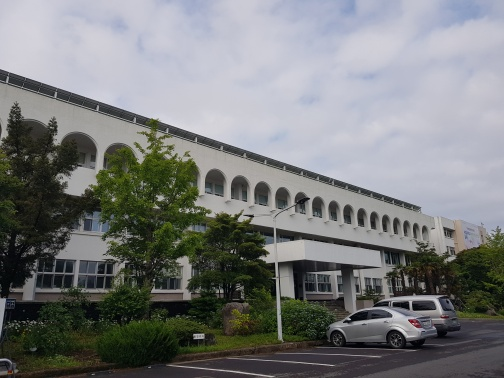Main Building of University: (7, 73, 440, 293), (264, 227, 388, 292), (204, 167, 328, 221), (328, 198, 430, 243)
